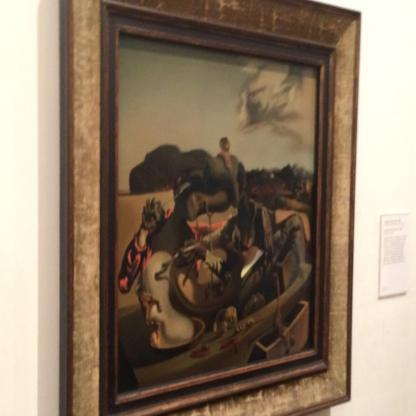Picture-frame: (70, 1, 367, 416)
